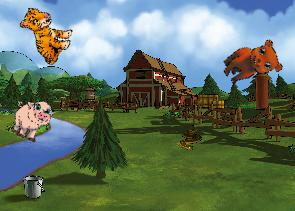bear: (217, 32, 287, 97)
pig: (6, 93, 57, 146)
tiger: (10, 3, 78, 68)
